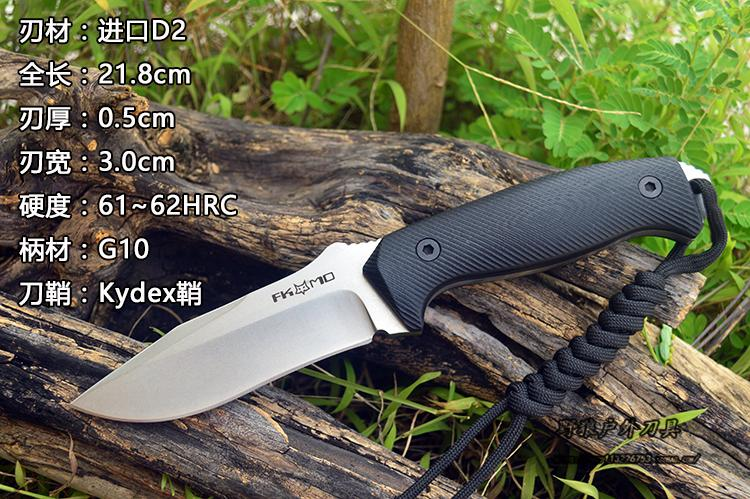knife: (42, 171, 712, 442)
